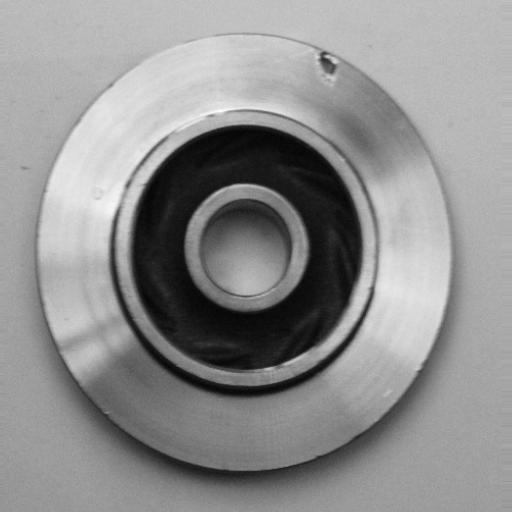crack: (312, 41, 348, 91)
scratch: (157, 103, 244, 143)
unpolished_casting: (38, 32, 455, 477)
